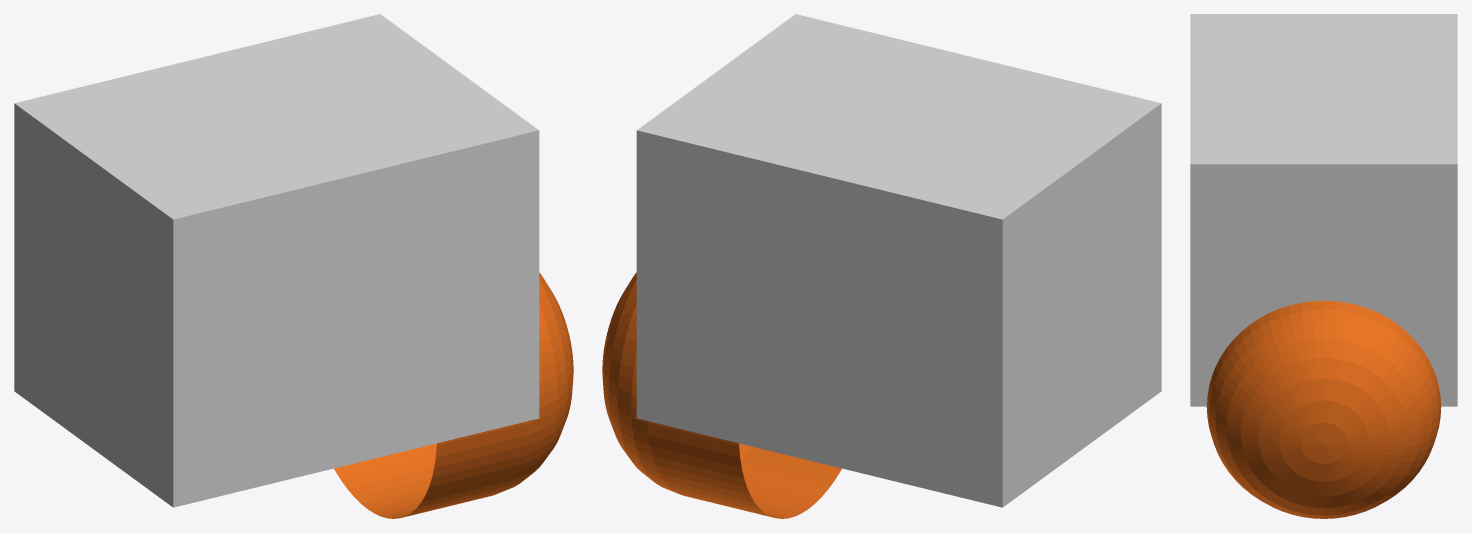
The model's file is mitochondria full 1.gltf.
3 views of the same model, side by side, from view 1: azimuth 30°, elevation 25°; view 2: azimuth 150°, elevation 25°; view 3: azimuth 270°, elevation 25° (orthographic). The views are drawn at different scales.
Parts seen in each view (by area): view 1: Cube, Outter membrane; view 2: Cube, Outter membrane; view 3: Cube, Outter membrane.
Boxes of the visible parts, x1,y1,x2,y2 form: Cube: [14, 14, 539, 507]; Outter membrane: [334, 272, 573, 518]; Cube: [636, 14, 1161, 507]; Outter membrane: [602, 272, 841, 518]; Cube: [1190, 14, 1457, 406]; Outter membrane: [1206, 300, 1441, 518].
Bounding box in the file's own units: 10.55 × 9.15 × 6.36.
